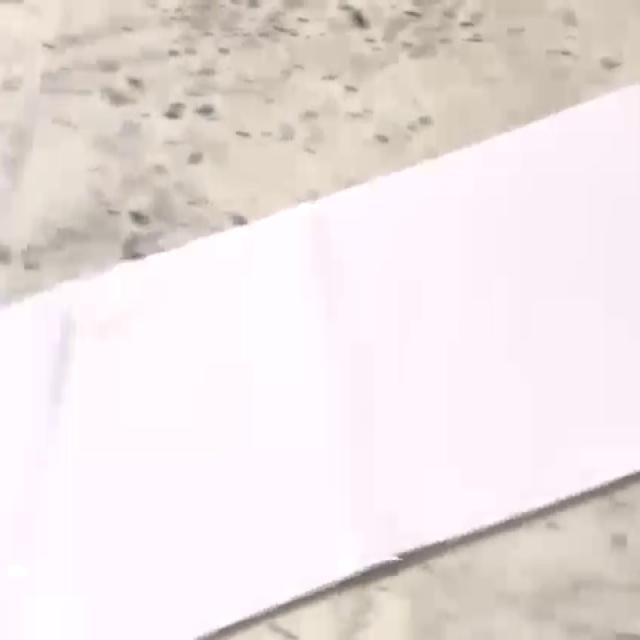road: (0, 86, 640, 638)
